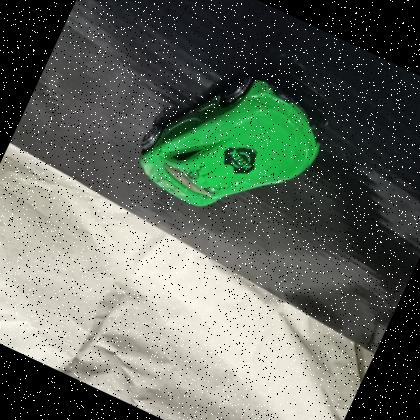Car: (140, 74, 321, 206)
